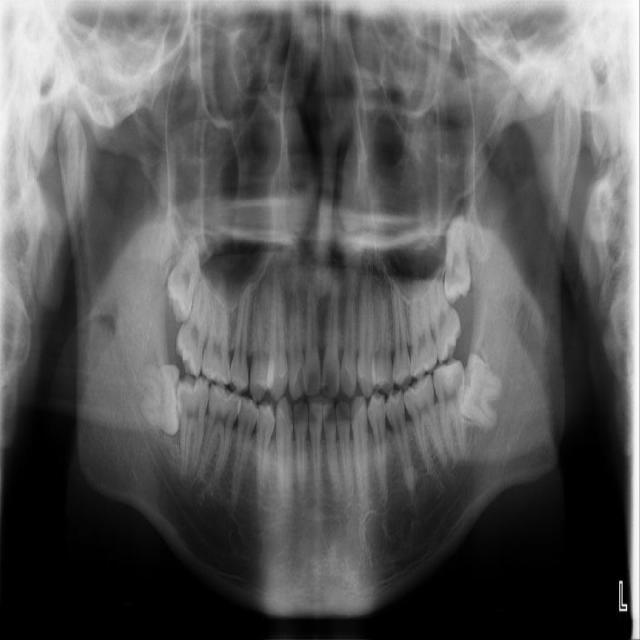3M ESPE Implant: (161, 237, 202, 324)
73: (600, 576, 606, 582)
BioHorizons Implant: (426, 276, 467, 364)
BioLife Implant: (443, 214, 473, 305)
Biomet 3i Implant: (454, 352, 508, 430)
Blue Sky Bio Implant: (433, 357, 466, 461)
Caries: (172, 274, 214, 379)
Implant: (168, 373, 211, 480)
Keystone Dental Implant: (140, 363, 184, 435)
